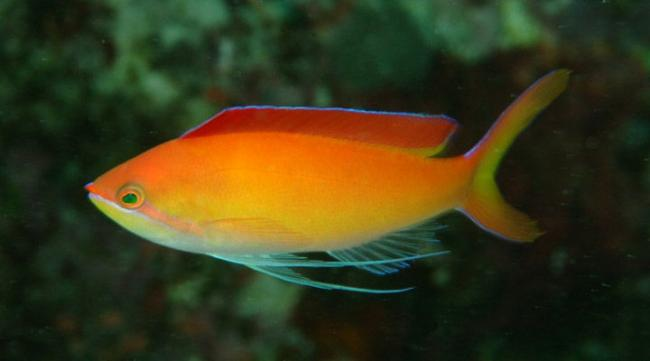fish: (84, 67, 572, 295)
